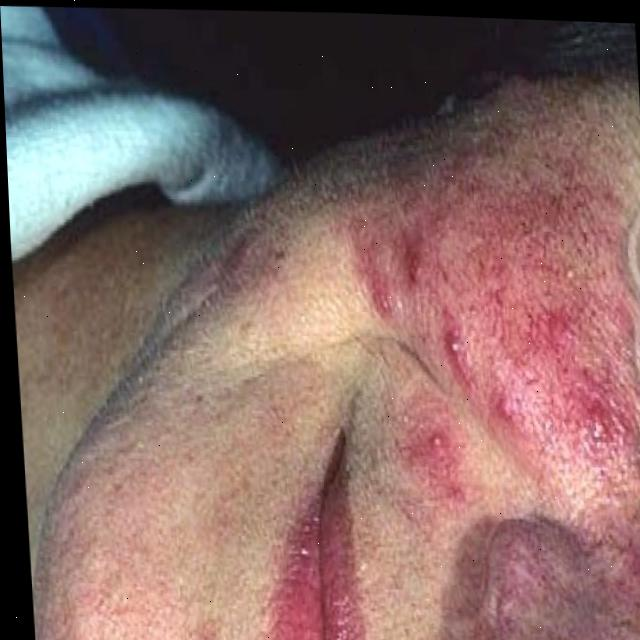Rosacea: (355, 149, 640, 493)
